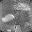people: (1, 14, 16, 23)
